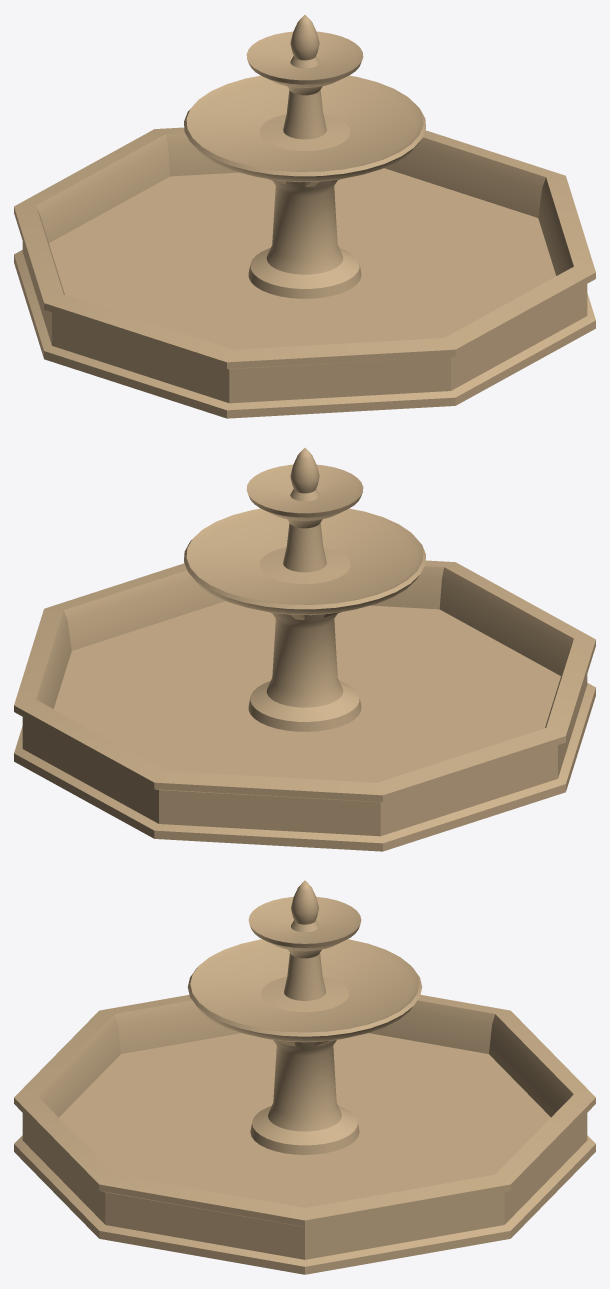
The model's file is fountain_courtyard.glb.
3 views of the same model, one above another, from view 1: azimuth 30°, elevation 25°; view 2: azimuth 150°, elevation 25°; view 3: azimuth 270°, elevation 25° (orthographic). The views are drawn at different scales.
Parts seen in each view (by area): view 1: fountain_courtyard; view 2: fountain_courtyard; view 3: fountain_courtyard.
Part boxes in pixels (<box>): fountain_courtyard: <box>14,15,595,418</box>; fountain_courtyard: <box>14,448,595,851</box>; fountain_courtyard: <box>14,880,595,1274</box>.
Bounding box in the file's own units: 6.6 × 3.4 × 6.6.
